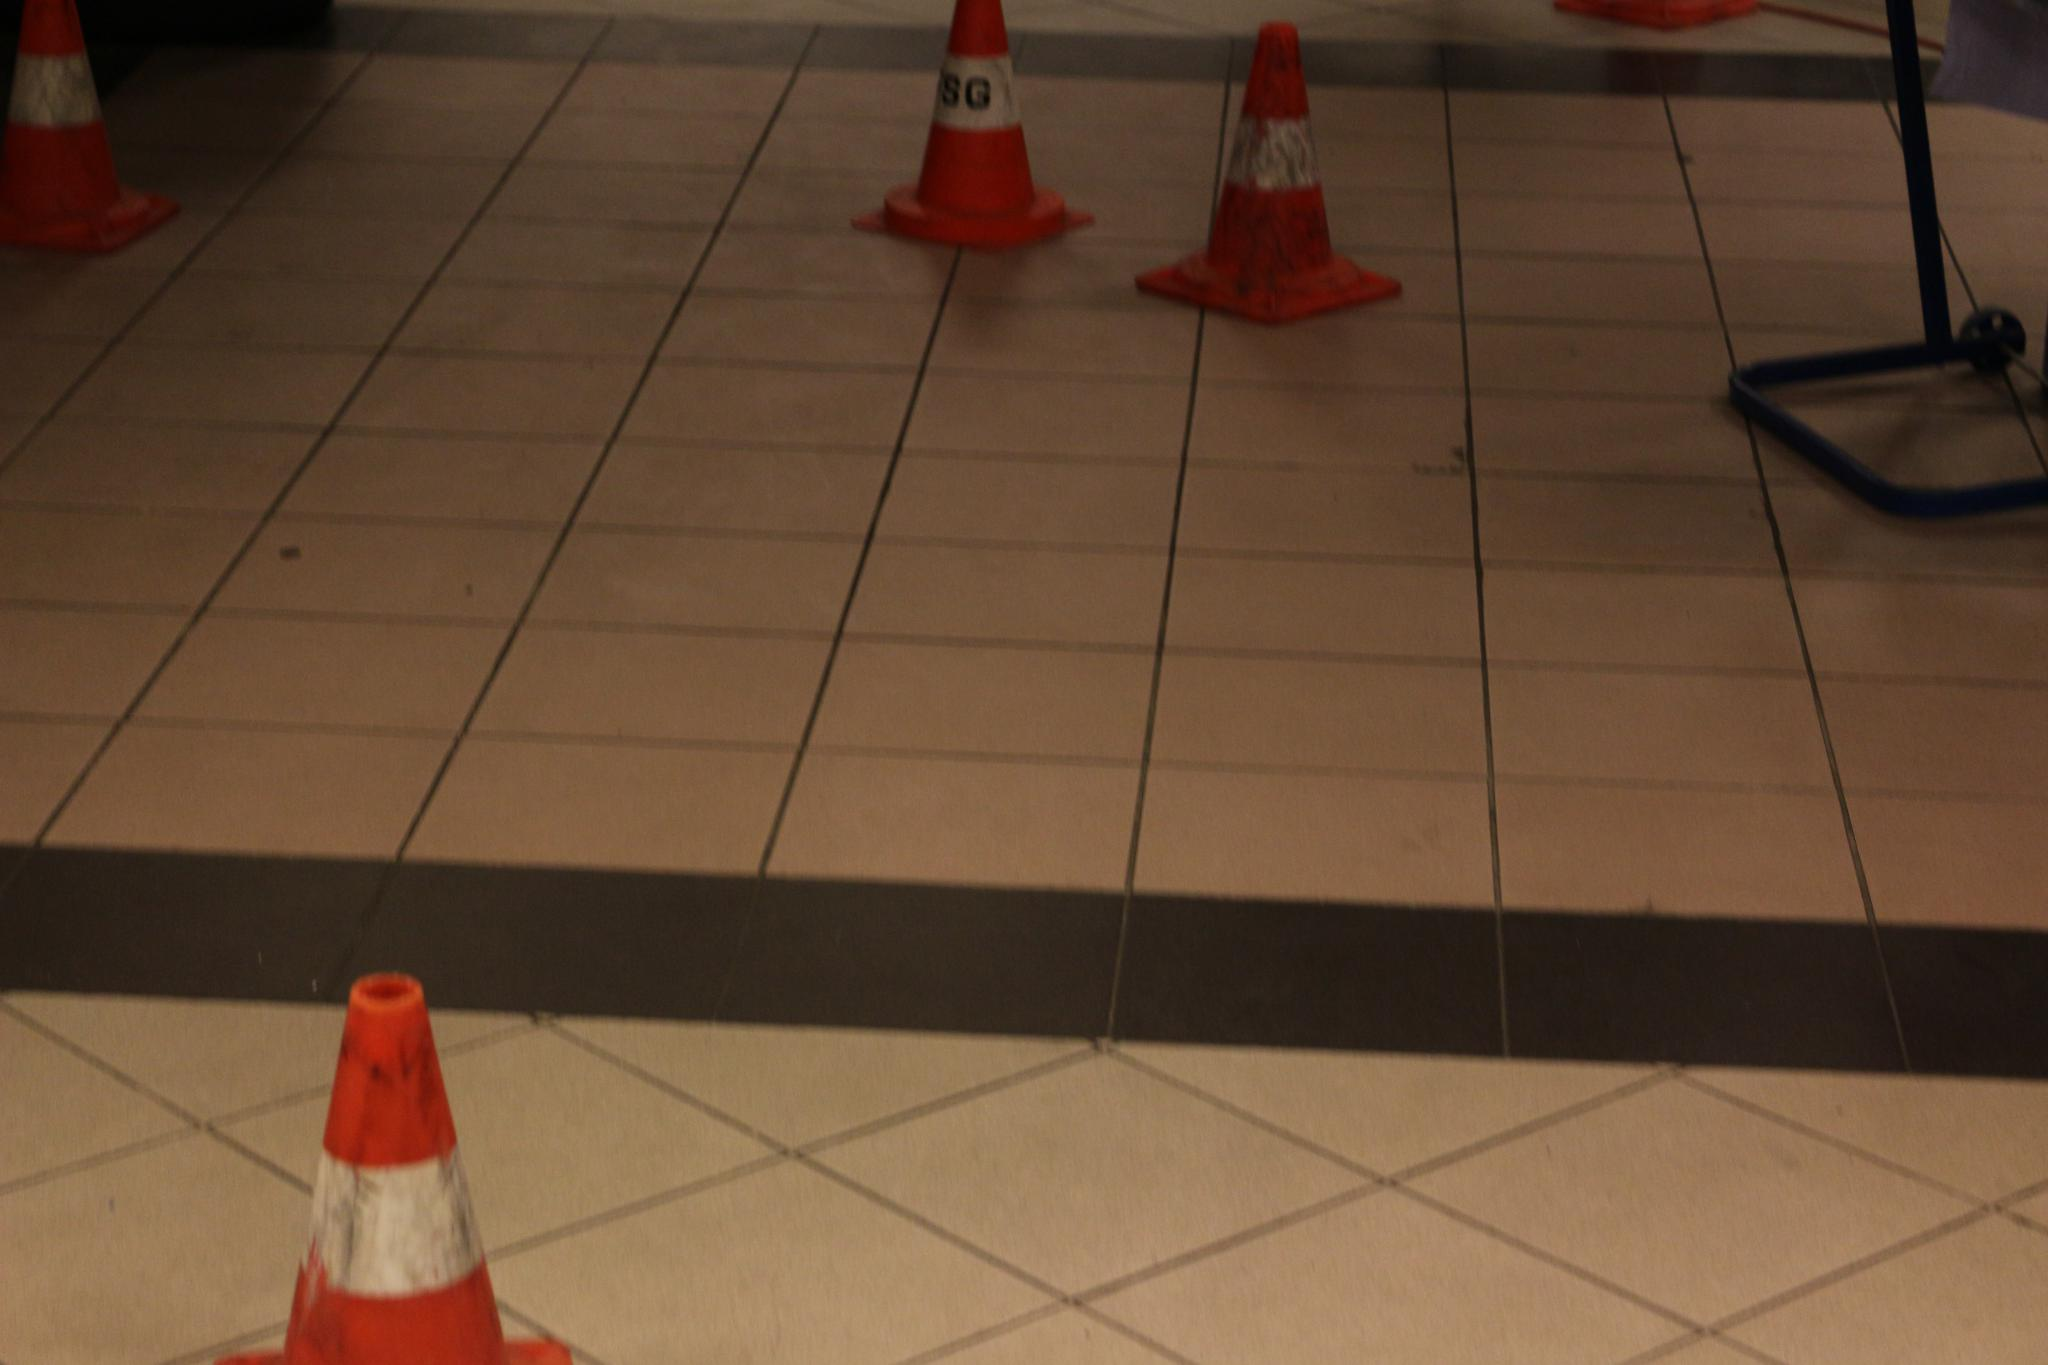Orange_Cone: (268, 967, 574, 1363), (1145, 2, 1399, 341), (851, 5, 1087, 265), (0, 0, 158, 264)
